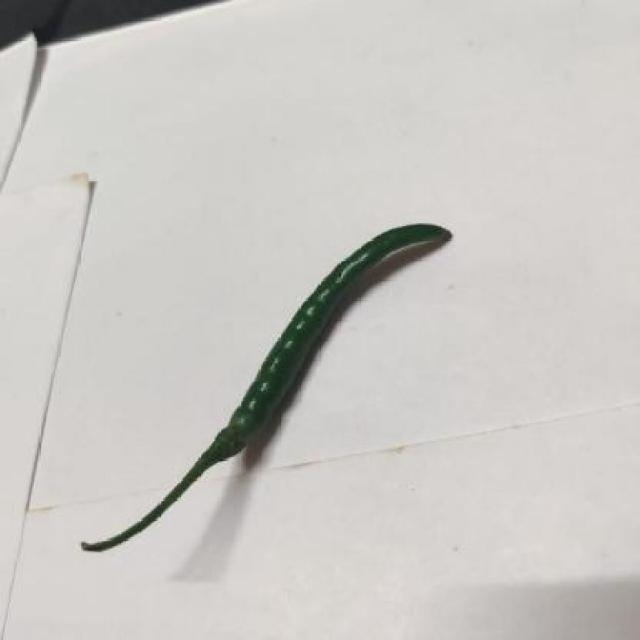Green Chili: (122, 218, 460, 538)
